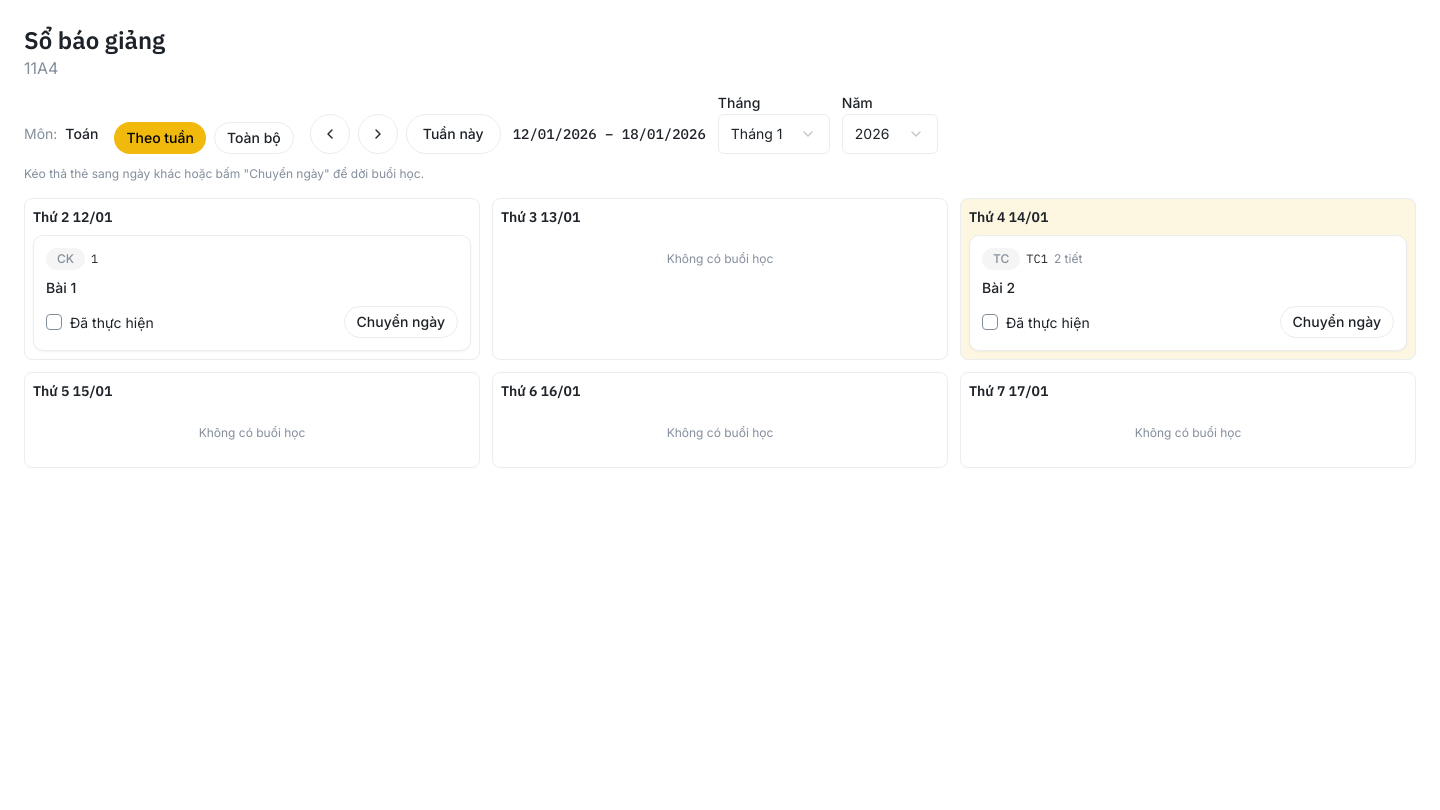
Test: chuyển ngày bằng hộp thoại › sau lỗi, "Huỷ" đóng hộp thoại và xóa lỗi (không để banner cũ lại trên trang)
This screenshot has width=1440, height=810.
Step 1. Click the button "Chuyển ngày" below "Thứ 2 12/01" → (401, 322), box [344,306,458,338]
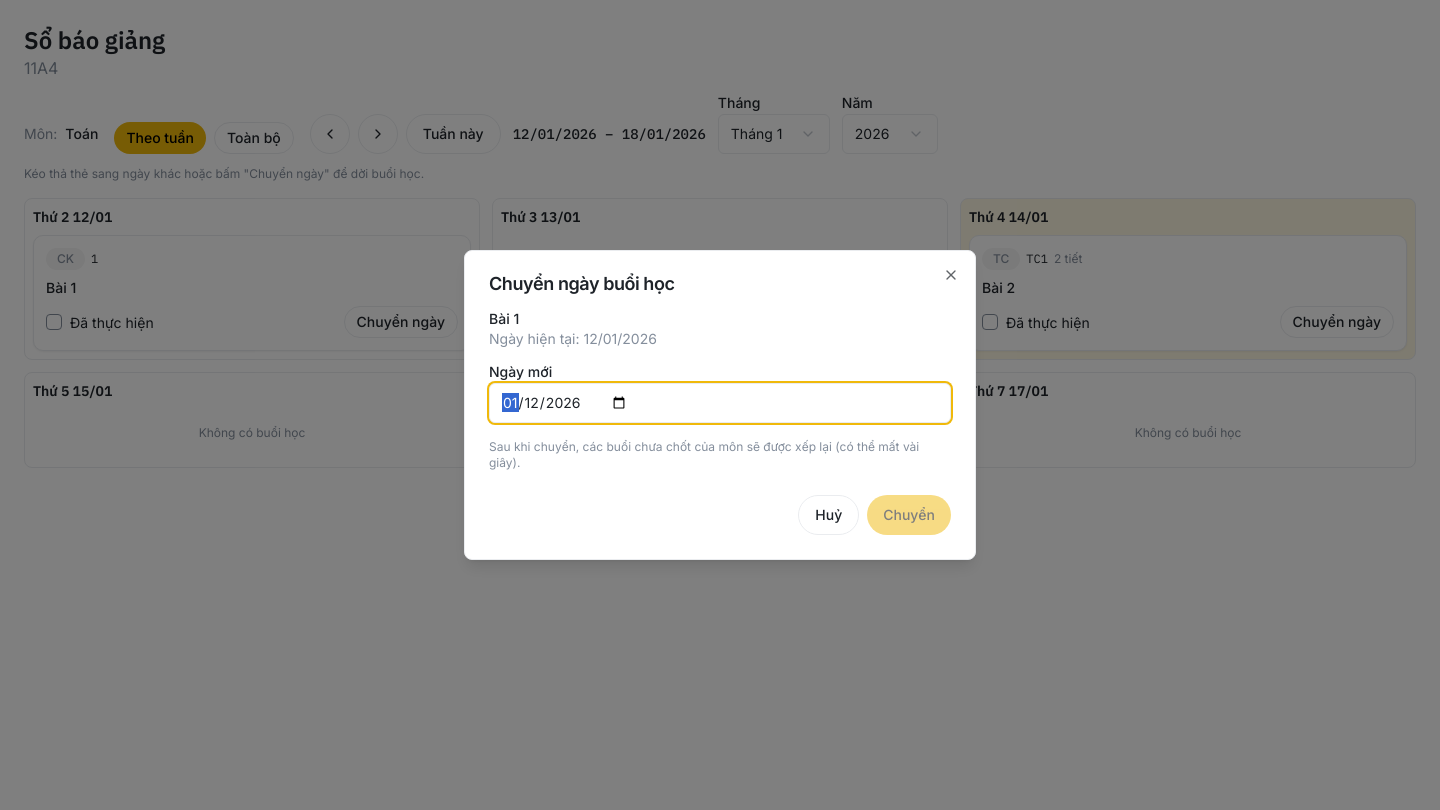
Step 2. Type "2026-01-15" into the date field labelled "Ngày mới" → (720, 403), box [489,383,951,423]
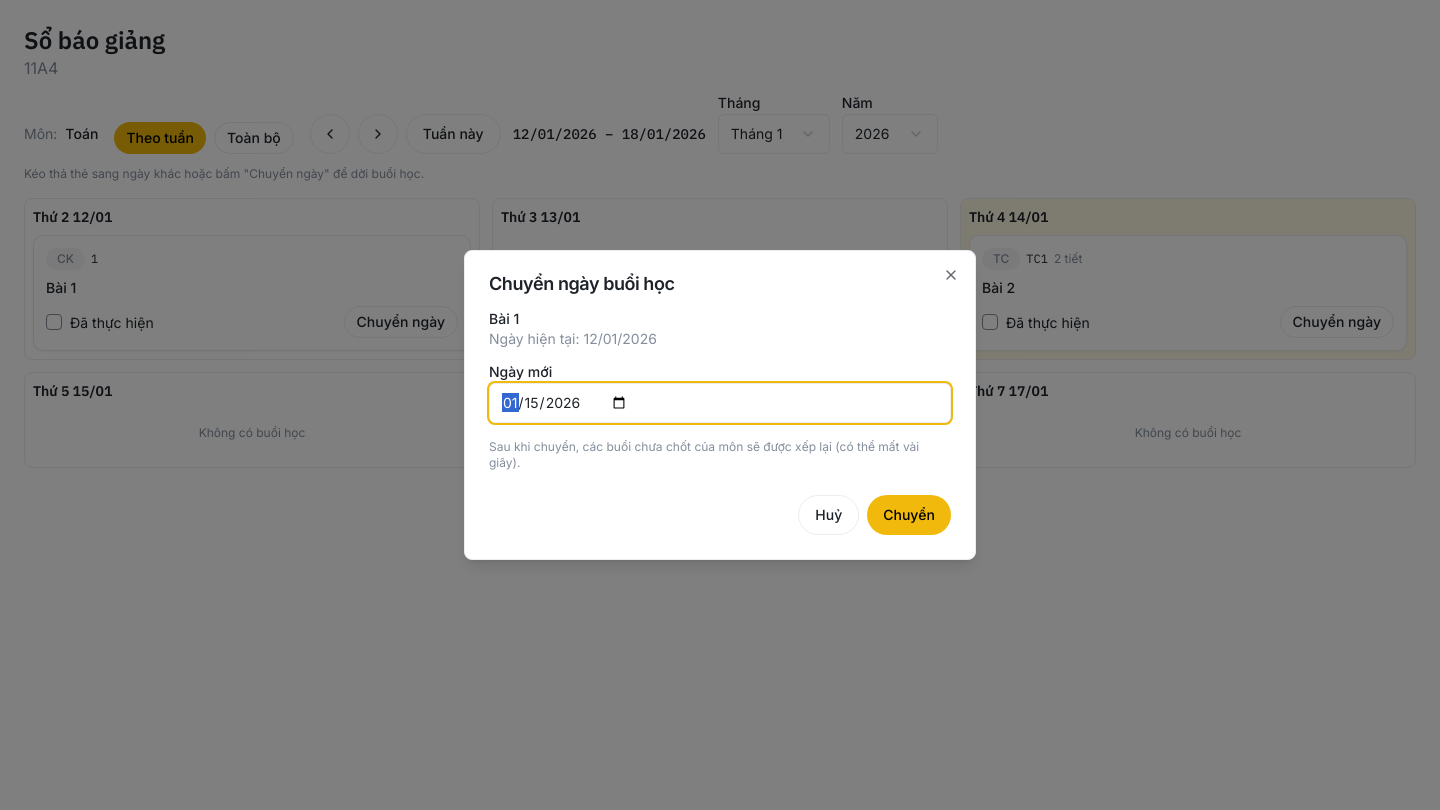
Step 3. Click the button "Chuyển" → (909, 515), box [867,495,951,535]
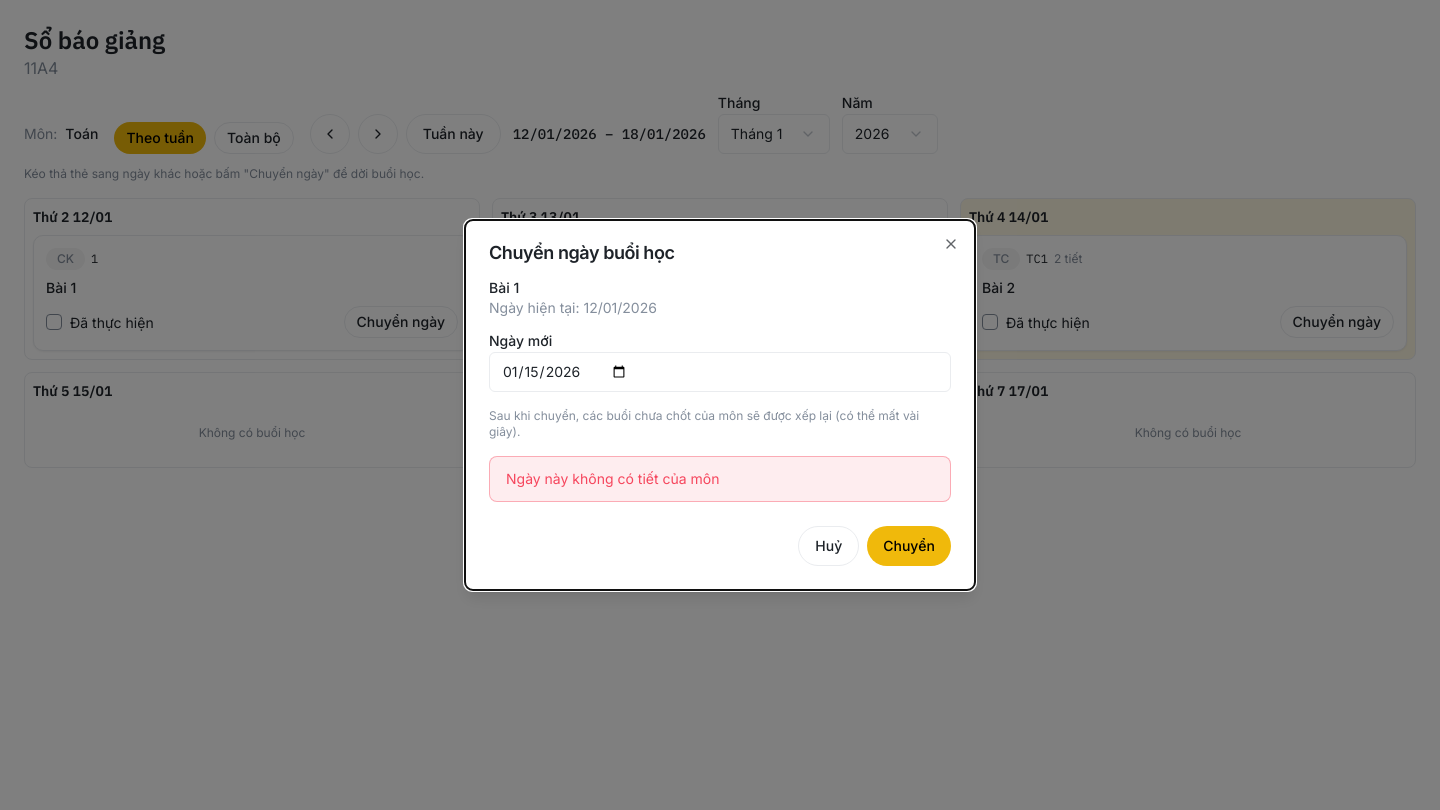
Check: the text "Ngày này không có tiết của môn" is shown, box [506,470,720,487]
Step 4. Click the button "Huỷ" → (829, 546), box [798,526,859,566]
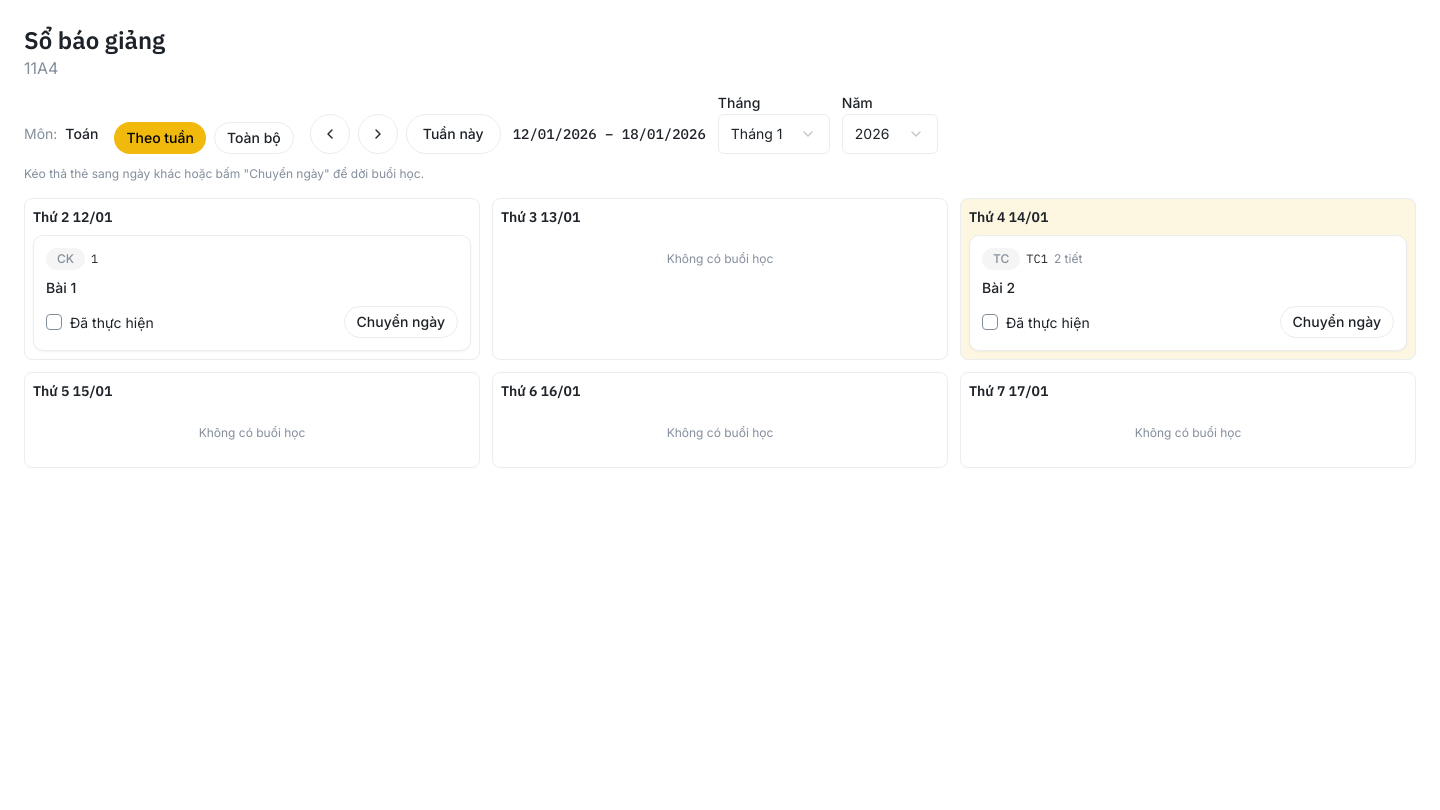
Check: the dialog is gone
Check: the text "Ngày này không có tiết của môn" is gone
